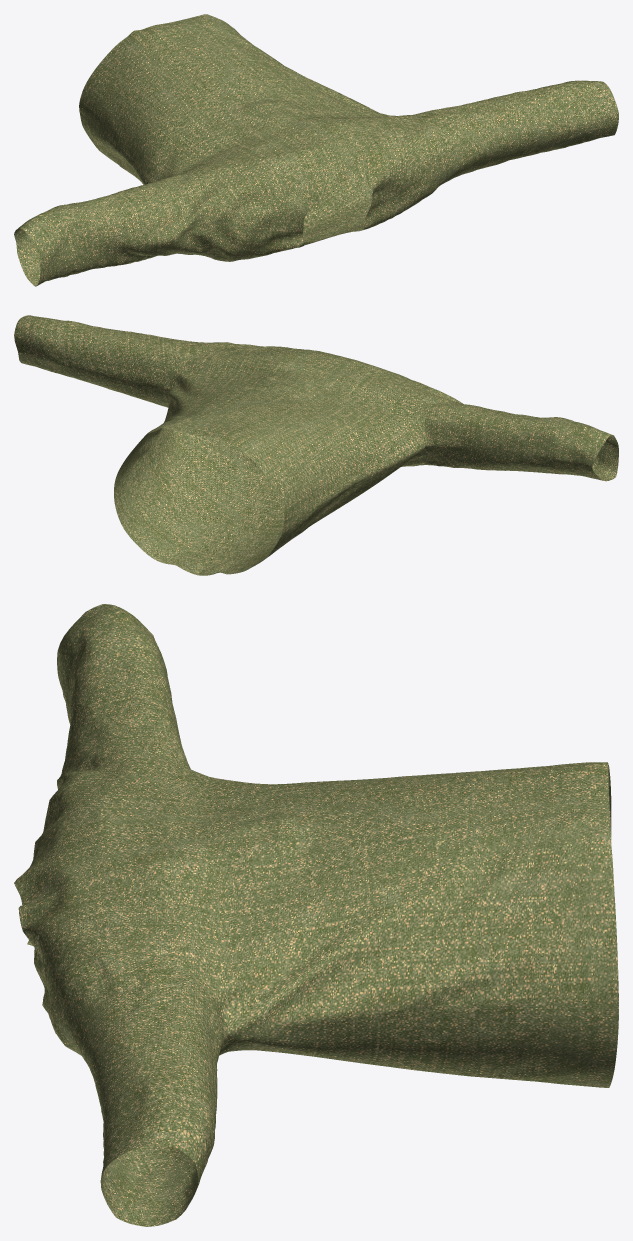
Rendered from tshirt2.obj.
3 views of the same model, one above another, from view 1: azimuth 30°, elevation 25°; view 2: azimuth 150°, elevation 25°; view 3: azimuth 270°, elevation 25° (orthographic). The views are drawn at different scales.
Bounding box in the file's own units: 1.26 × 0.3011 × 0.6156.
1 material, 1 textured.
